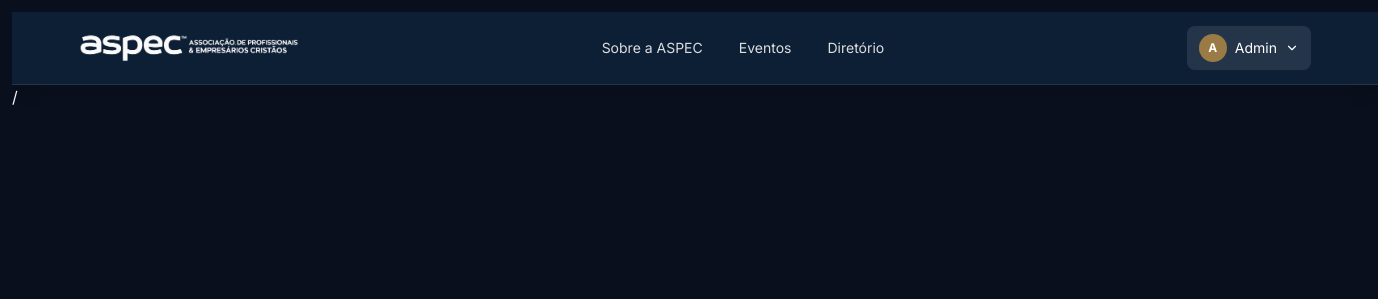
Test: Menu de conta do cabeçalho › o admin com perfil vê os itens do design por ordem, com dois separadores
Click the button "A Admin".
click(1249, 48)  # box [1187,26,1311,70]
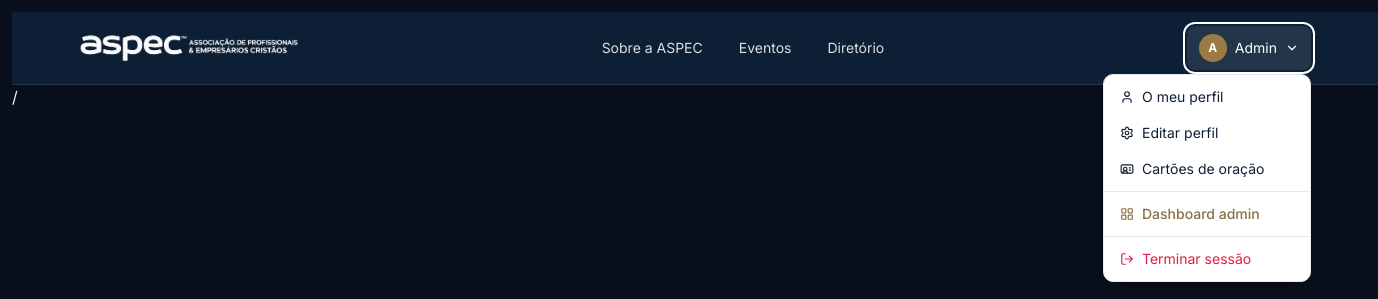
Check: the button "Terminar sessão" is shown, box [1104,241,1310,277]
